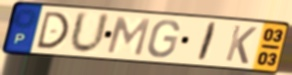D: (34, 10, 71, 50)
G: (145, 19, 182, 60)
I: (194, 21, 220, 64)
K: (223, 24, 259, 66)
M: (104, 15, 153, 58)
U: (68, 10, 112, 57)
